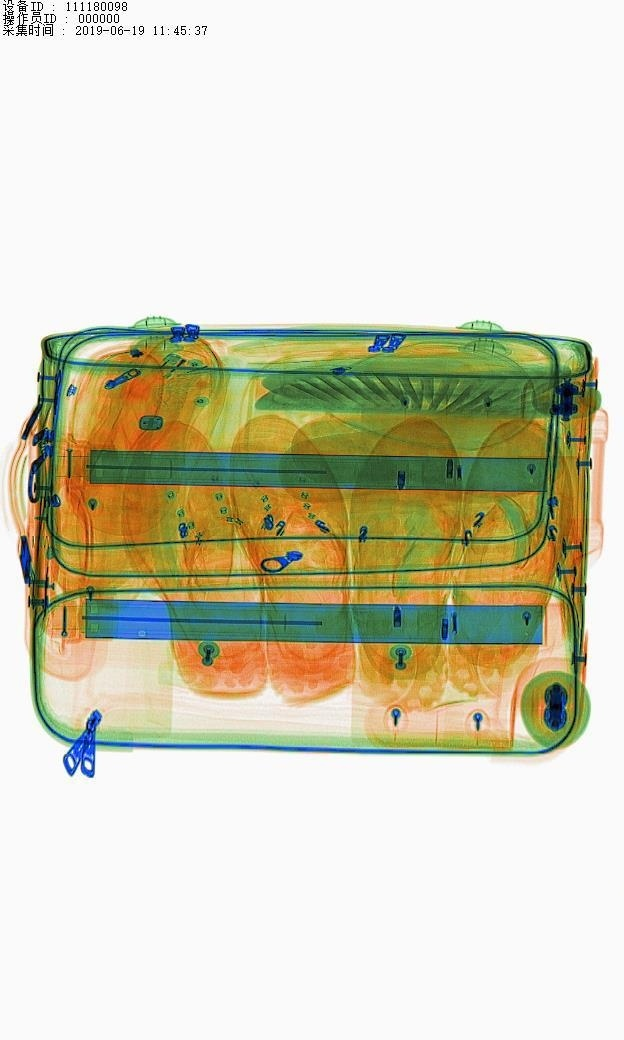NonmetallicFire: (126, 343, 213, 439)
